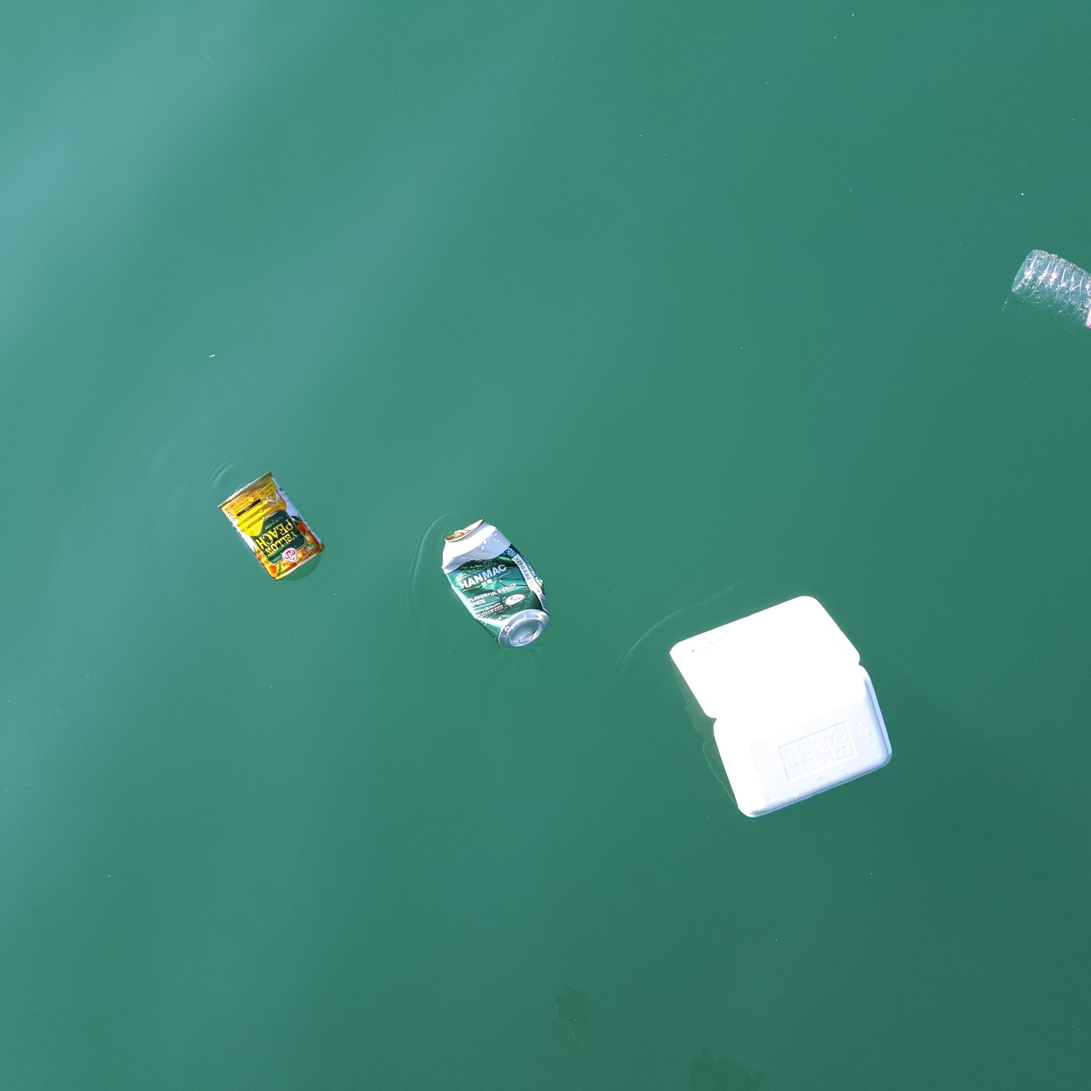sampah_terapung: (671, 596, 893, 818), (442, 519, 551, 648), (218, 472, 326, 581), (1011, 250, 1091, 328)
